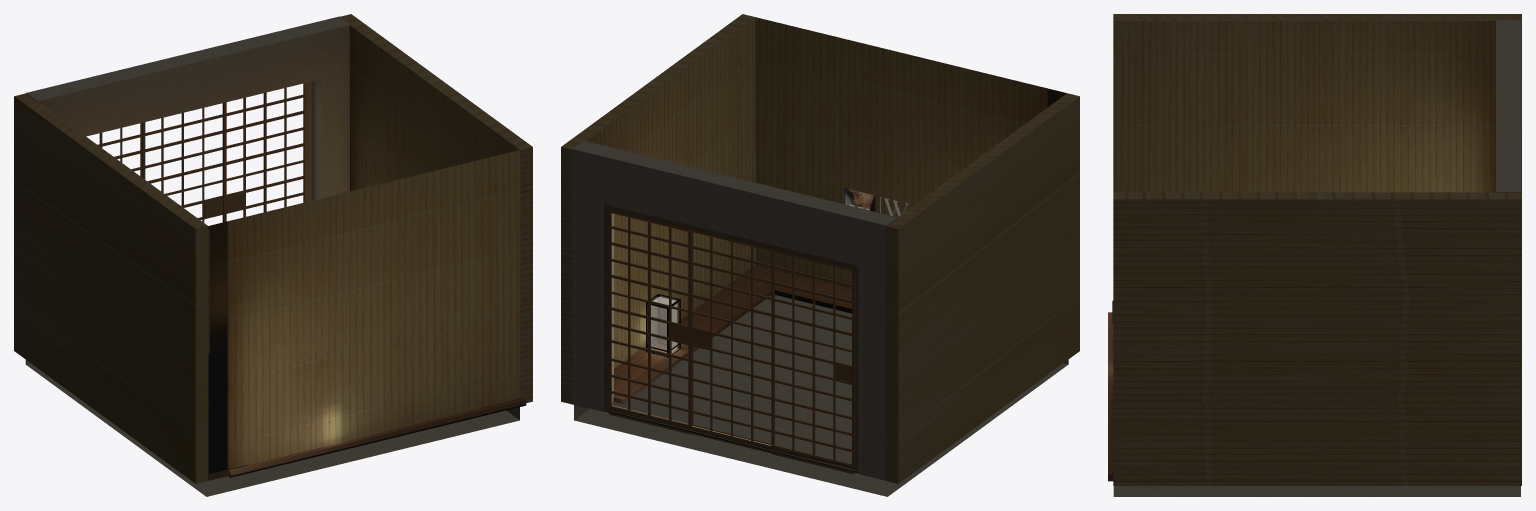
Rendered from villa.gltf.
3 views of the same model, side by side, from view 1: azimuth 30°, elevation 25°; view 2: azimuth 150°, elevation 25°; view 3: azimuth 270°, elevation 25° (orthographic). The views are drawn at different scales.
Parts seen in each view (by area): view 1: Object_11.001; view 2: Object_11.001; view 3: Object_11.001.
Boxes of the visible parts, x1,y1,x2,y2 form: Object_11.001: (14, 14, 532, 496); Object_11.001: (561, 14, 1079, 496); Object_11.001: (1108, 14, 1521, 496).
Size of the model in its own units: 15.13 by 11.63 by 14.28.
8 materials, 8 textured.
